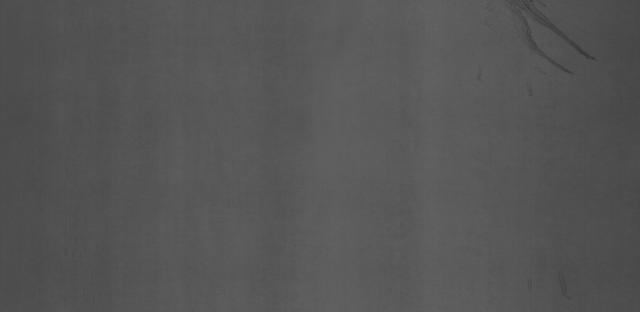water_spot: (493, 0, 608, 87)
